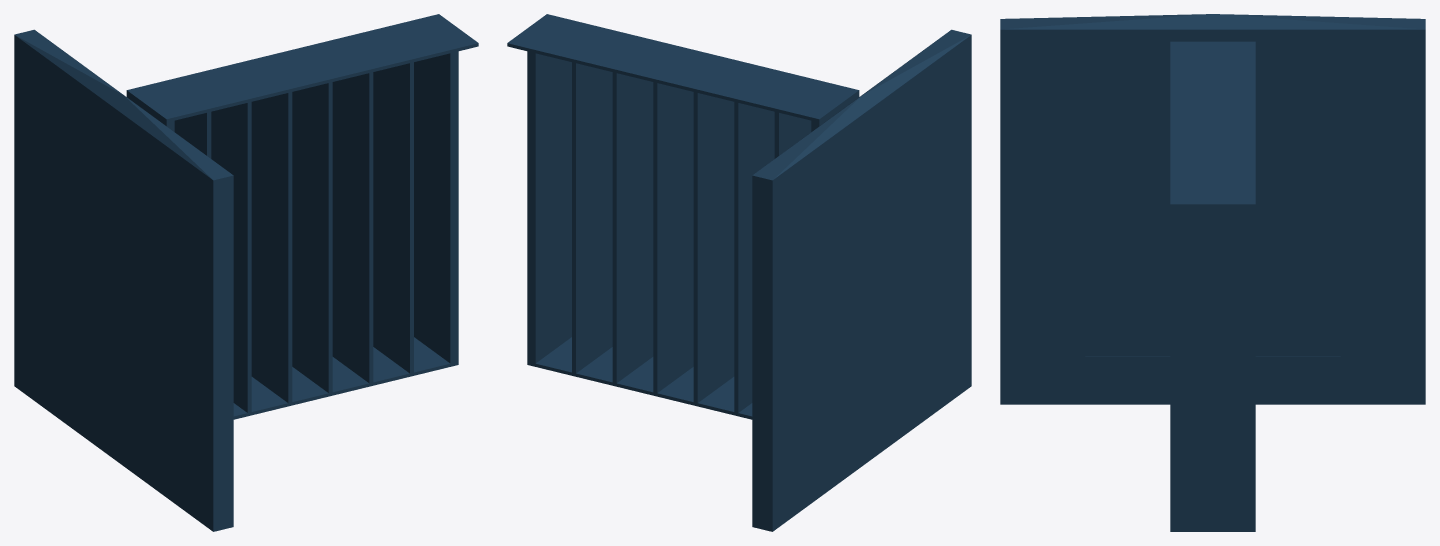
The model's file is sh-contrib-fence-grid-gate.glb.
The picture shows the model from 3 angles, left to right: view 1: azimuth 30°, elevation 25°; view 2: azimuth 150°, elevation 25°; view 3: azimuth 270°, elevation 25°; orthographic projection. The views are drawn at different scales.
Visible parts, largest first — view 1: 1_1_1; view 2: 1_1_1; view 3: 1_1_1.
Part boxes in pixels (bbox=[...]): 1_1_1: bbox=[14, 14, 478, 531]; 1_1_1: bbox=[507, 14, 971, 531]; 1_1_1: bbox=[1000, 14, 1425, 531].
Size of the model in its own units: 1 by 1 by 1.
